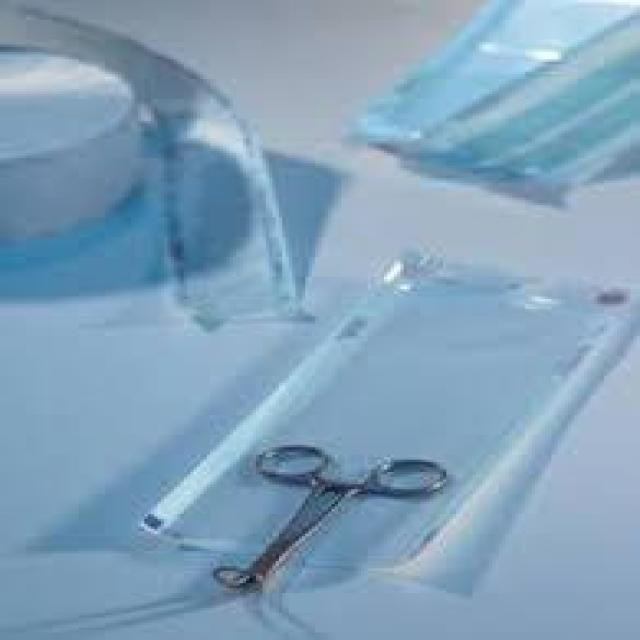B3: (141, 410, 479, 608)
